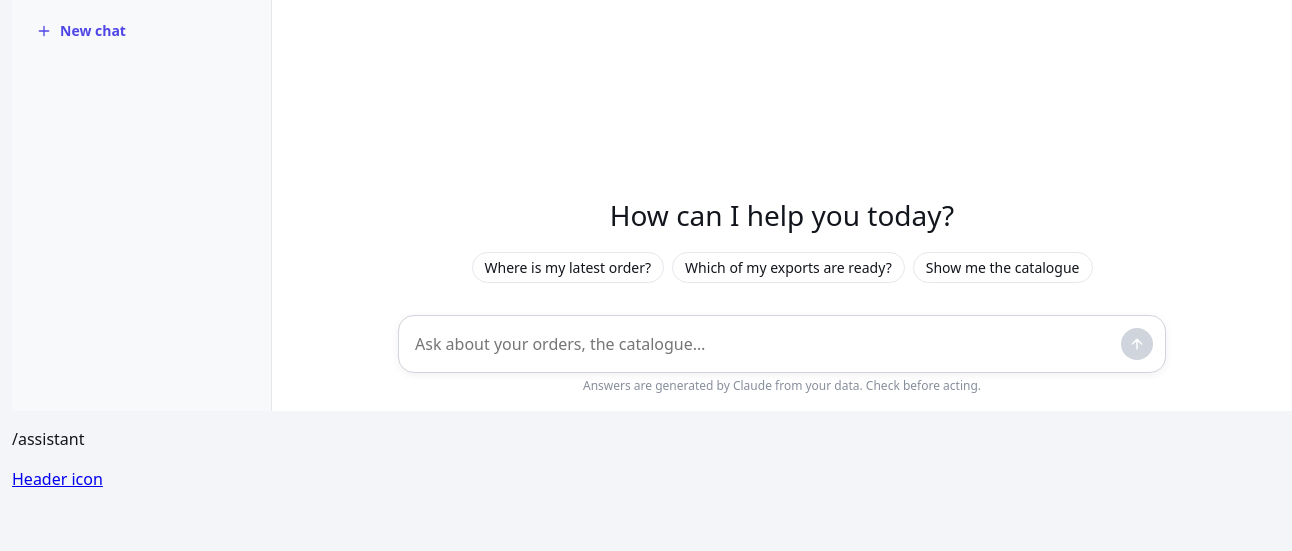
Scenario: AssistantPage › gives a new chat its address after the first answer, without restarting it
Type "One?" into the text box named "Your question" at coordinates (764, 344), box 415,328 -> 1113,360
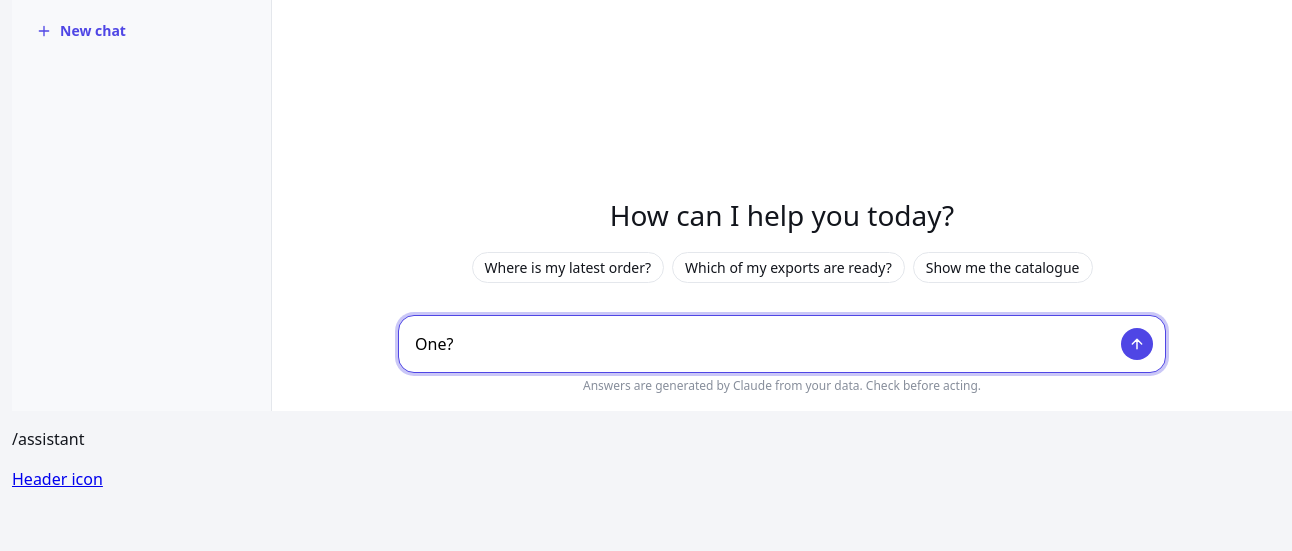
Click the button named "Send" at coordinates (1137, 344), box 1121,328 -> 1153,360
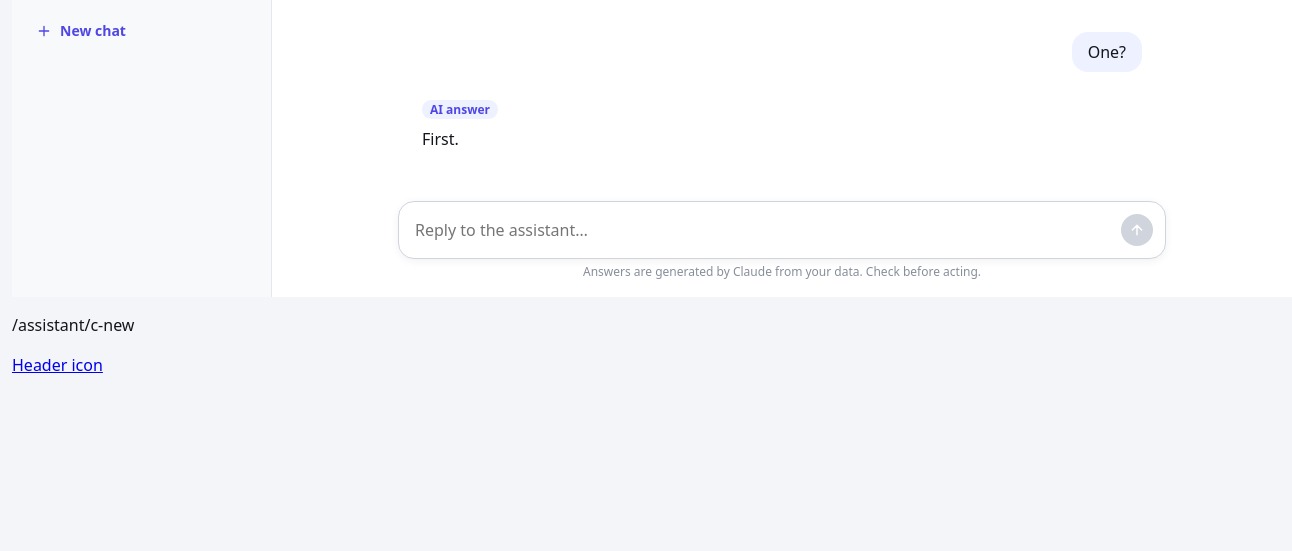
Now the text "First." is shown, box 422,128 -> 459,150
Now the text with test id "address" reads "/assistant/c-new", box 12,314 -> 134,336
Type "Two?" into the text box named "Your question" at coordinates (764, 230), box 415,214 -> 1113,246
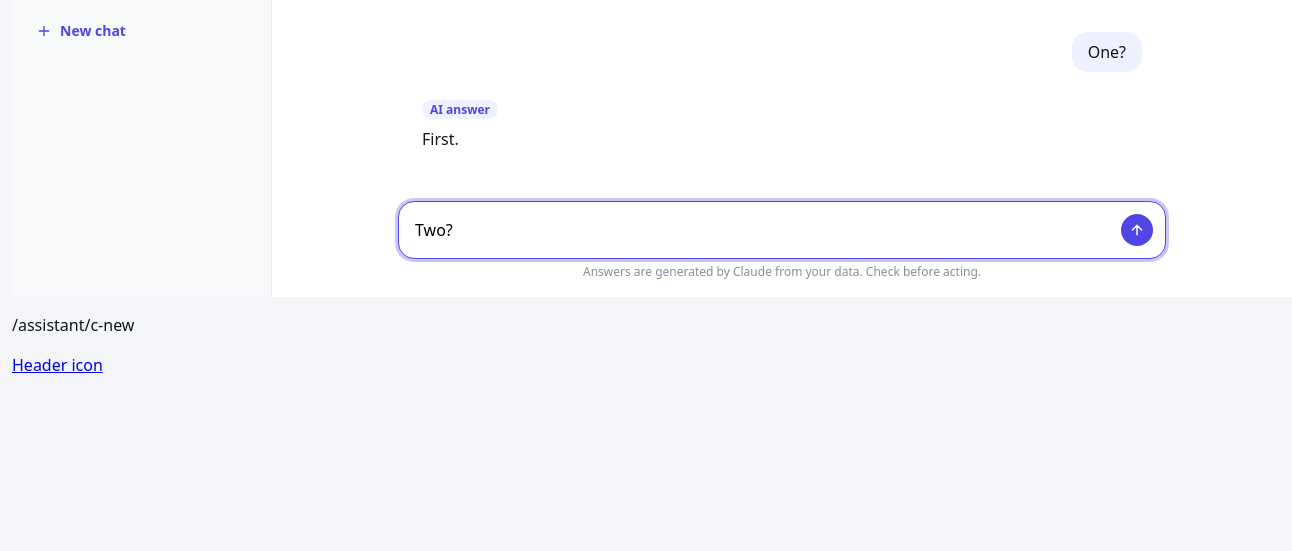
Click the button named "Send" at coordinates (1137, 230), box 1121,214 -> 1153,246
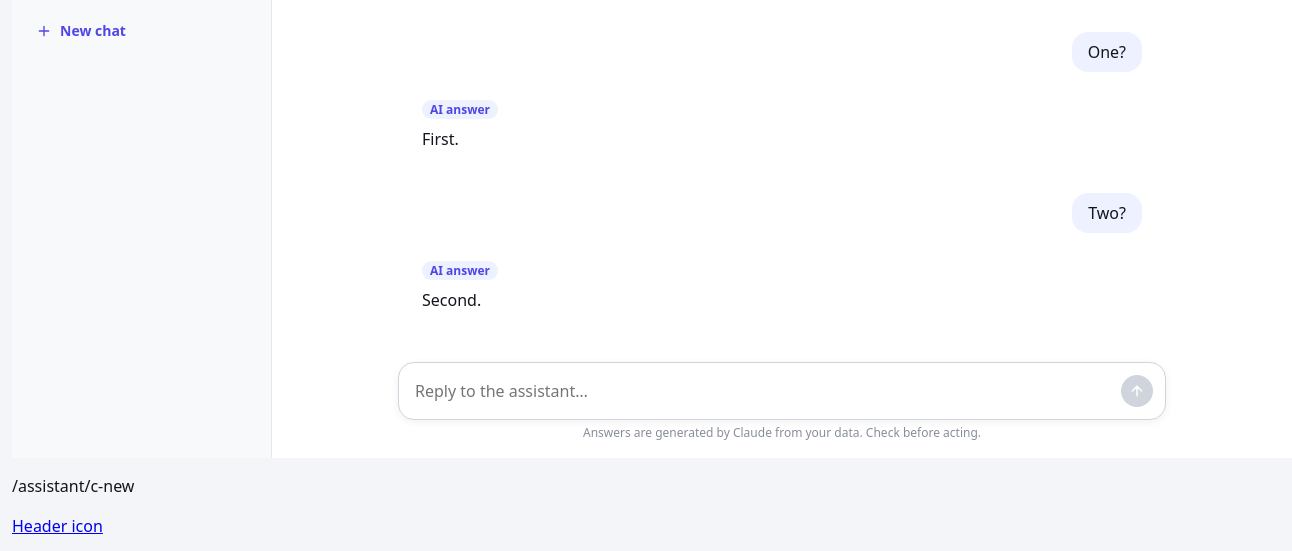
Now the text "First." is shown, box 422,128 -> 459,150
Now the text "Second." is shown, box 422,289 -> 481,311
